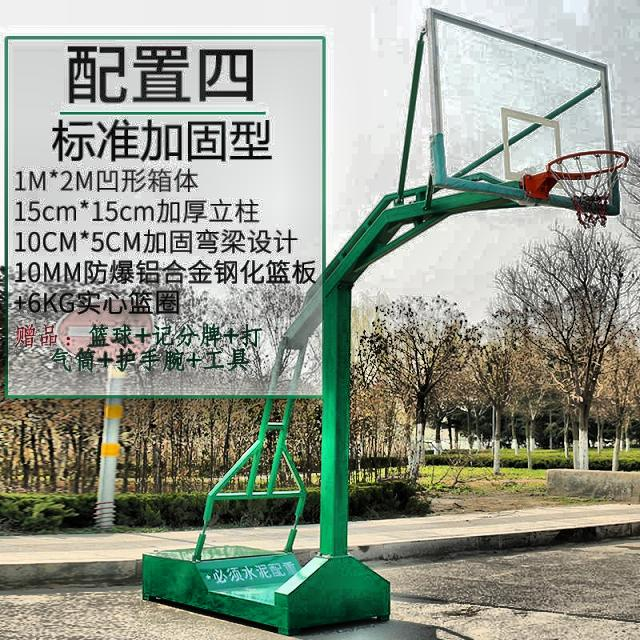rim: (546, 150, 630, 228)
